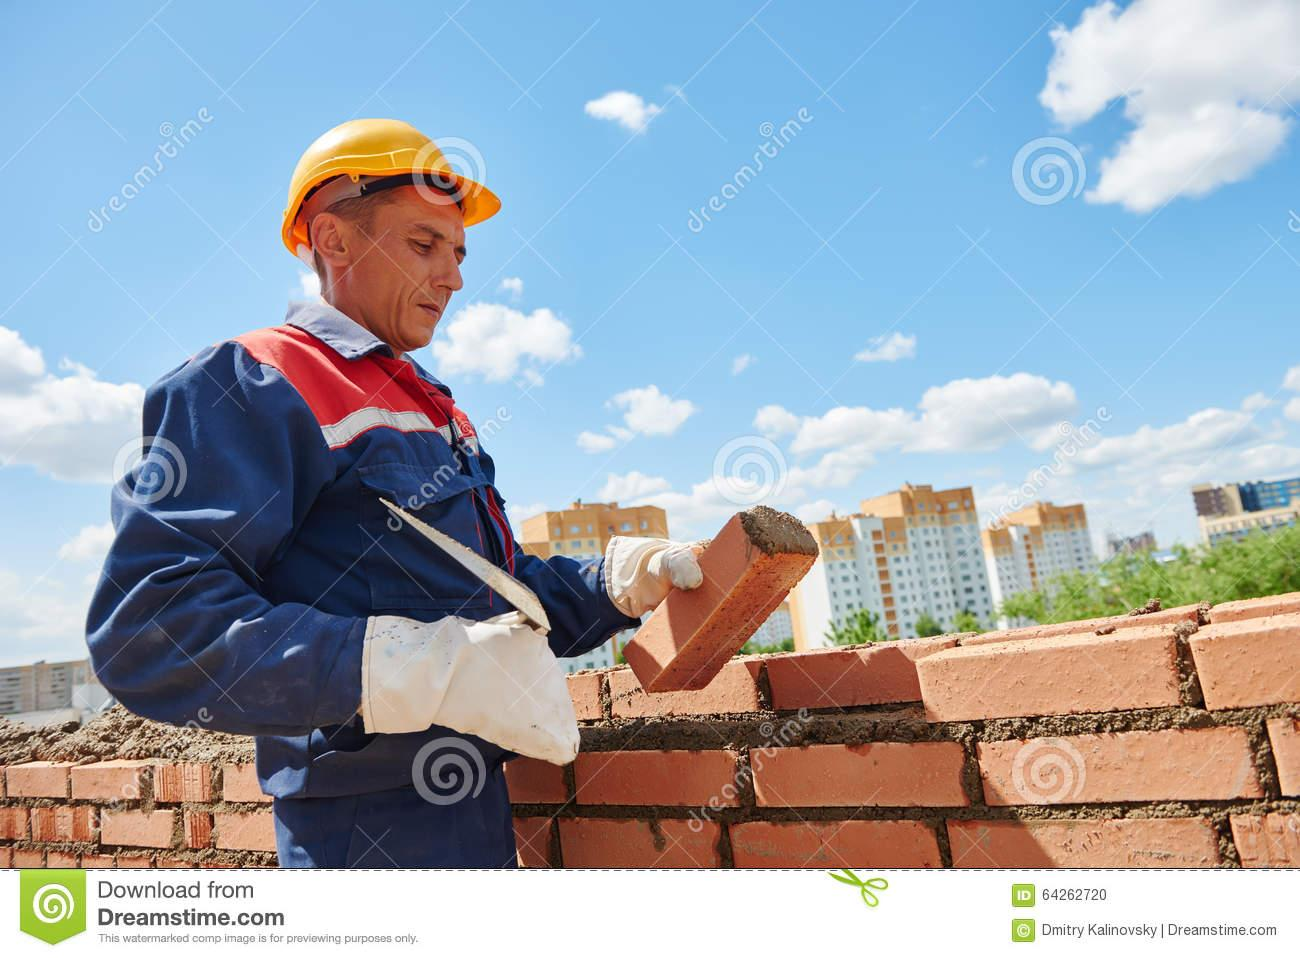helmet: (265, 117, 514, 257)
